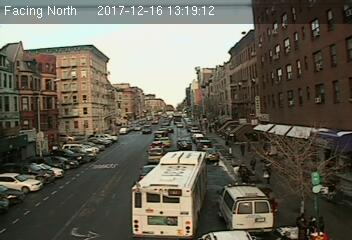bus: (129, 150, 208, 239)
car: (146, 148, 165, 162), (176, 138, 193, 149)
police: (216, 181, 274, 234)
